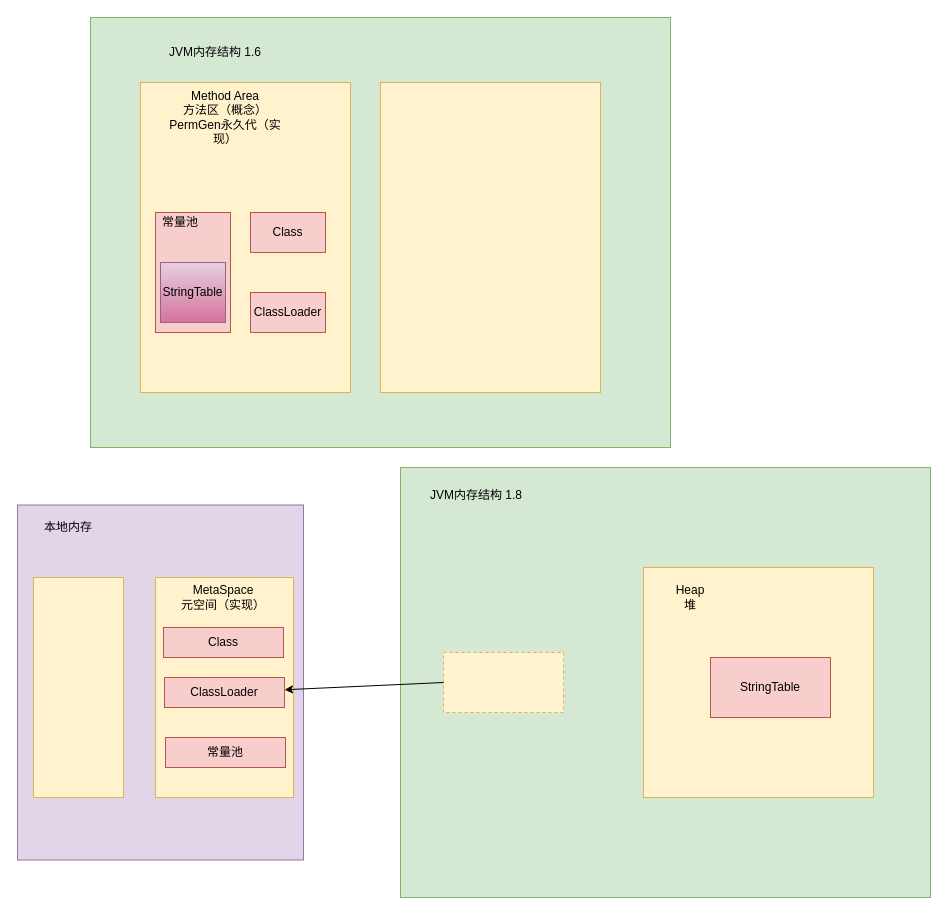
The diagram is 948 pixels wide and 915 high, and some of its shapes have lost their labels. The shapes that lost their labels are listed below. From the top down, each one's box as (x1, y1, x2, y2) in pixels, then its label:
(380, 82, 600, 392): Heap 堆
(32, 576, 124, 798): 其他进程
(442, 652, 564, 712): Method Area 方法区(概念)
